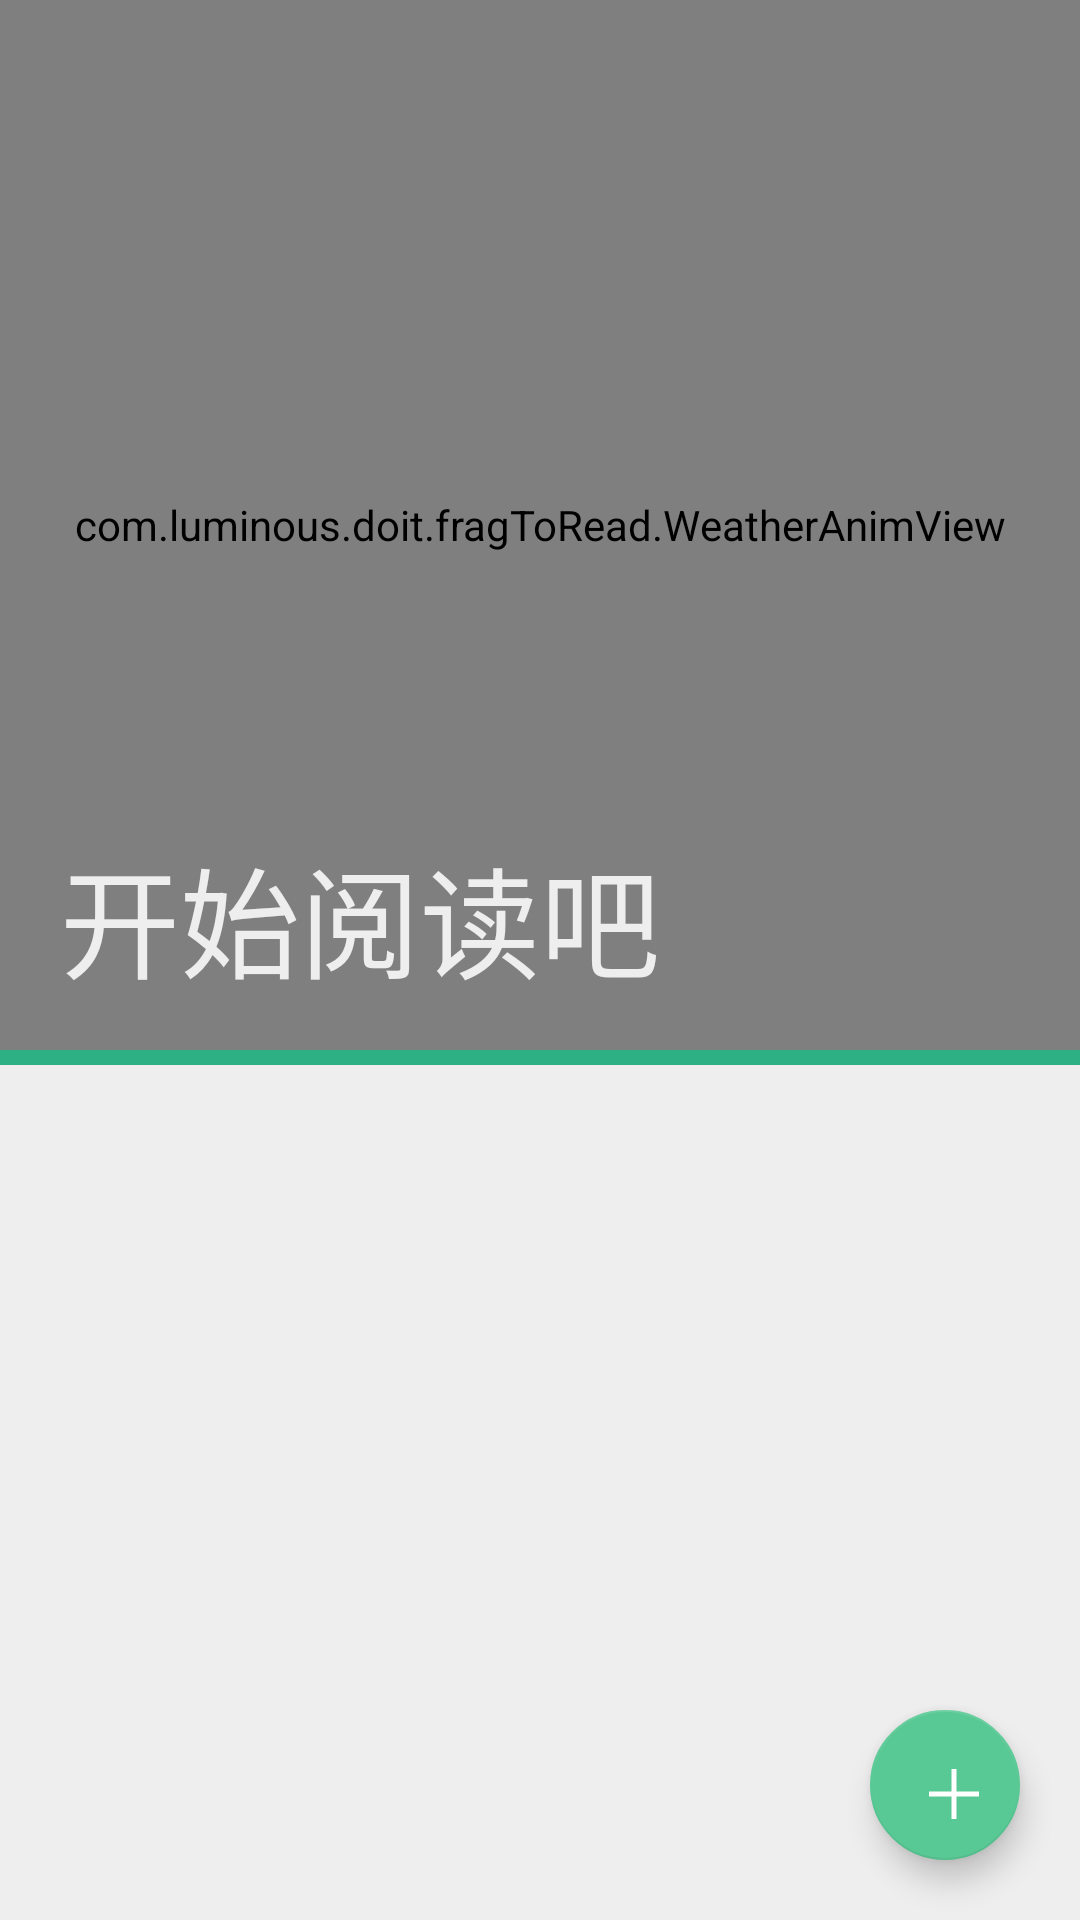

Icon click points for this 1080px x 1920px phone screenshot, format point (x, y):
add: point (945, 1785)
